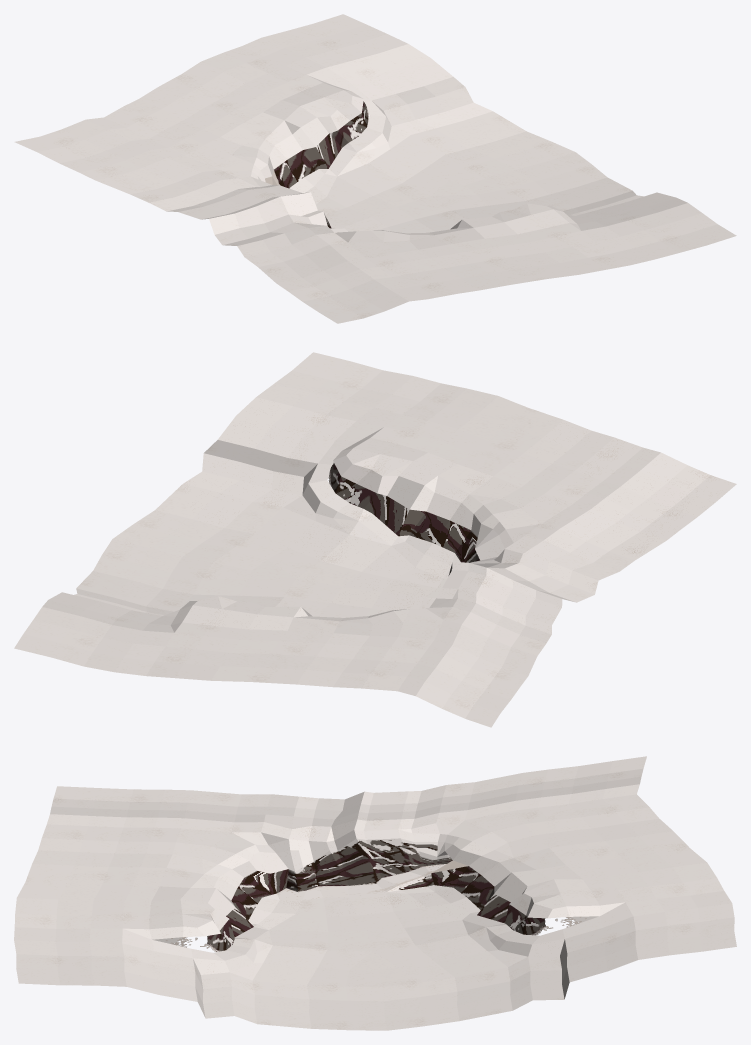
Rendered from km4 floor.fbx.
3 views of the same model, one above another, from view 1: azimuth 30°, elevation 25°; view 2: azimuth 150°, elevation 25°; view 3: azimuth 270°, elevation 25° (orthographic). The views are drawn at different scales.
Visible parts, largest first — view 1: CLIFF1; view 2: CLIFF1; view 3: CLIFF1.
Boxes of the visible parts, x1,y1,x2,y2 form: CLIFF1: (14,14,736,323); CLIFF1: (14,352,736,727); CLIFF1: (14,756,736,1030).
Size of the model in its own units: 28190 by 2601 by 35745.
